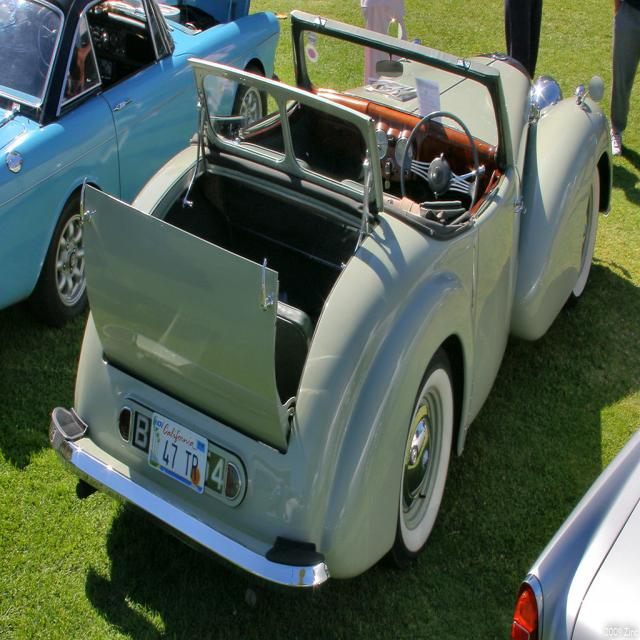car: (72, 3, 587, 593)
